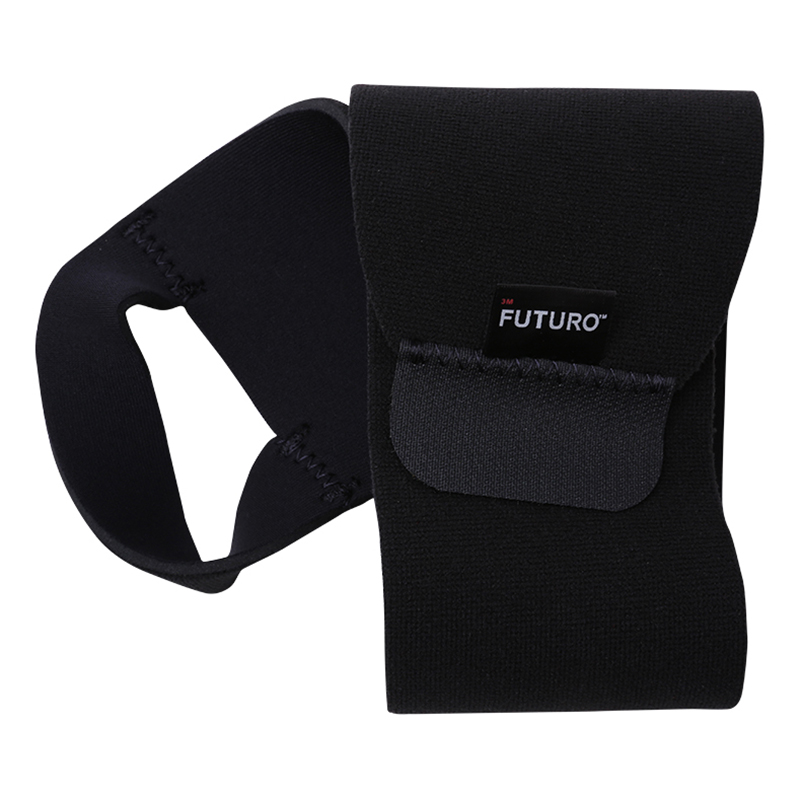3M: (499, 293, 520, 311)
